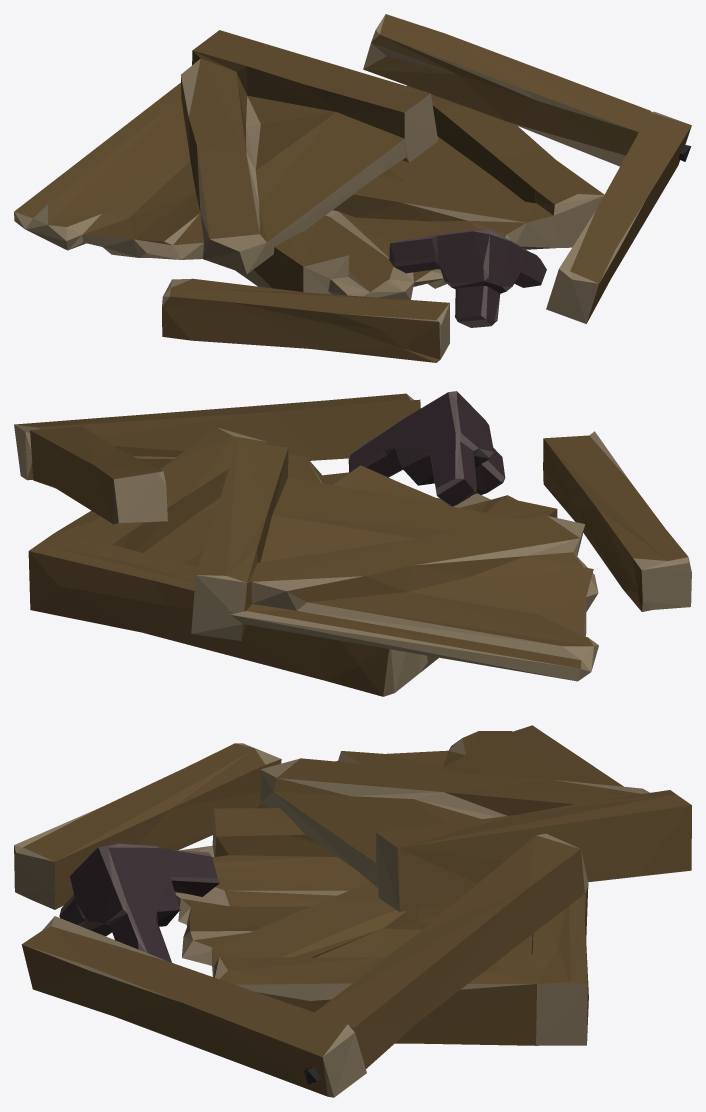
File: MDungeon_CrateWrecked_01.FBX
3 views of the same model, one above another, from view 1: azimuth 30°, elevation 25°; view 2: azimuth 150°, elevation 25°; view 3: azimuth 270°, elevation 25° (orthographic). The views are drawn at different scales.
Parts seen in each view (by area): view 1: MDungeon_CrateWrecked_01_LOD0; view 2: MDungeon_CrateWrecked_01_LOD0; view 3: MDungeon_CrateWrecked_01_LOD0.
Part boxes in pixels (x1,y1,x2,y2): MDungeon_CrateWrecked_01_LOD0: [14, 14, 691, 362]; MDungeon_CrateWrecked_01_LOD0: [14, 391, 691, 696]; MDungeon_CrateWrecked_01_LOD0: [14, 725, 691, 1097].
Size of what is drawn, in the model's own units: 1.8 by 0.3986 by 1.51.
